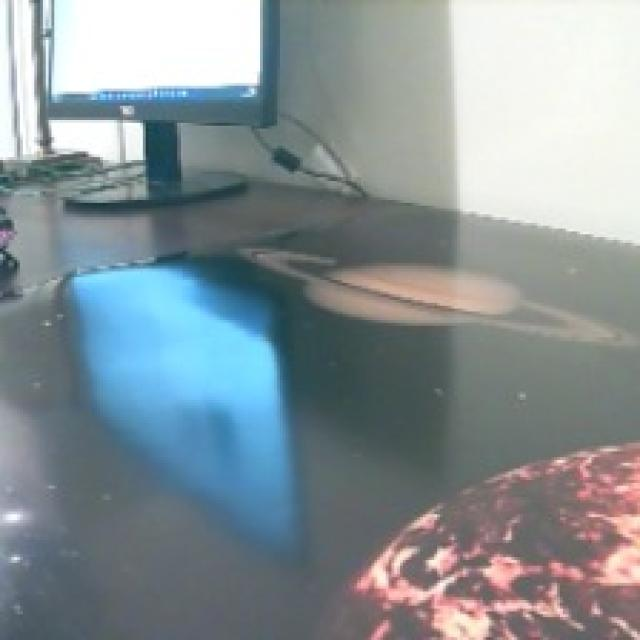Saturn: (234, 243, 640, 354)
Sun: (317, 440, 640, 640)
